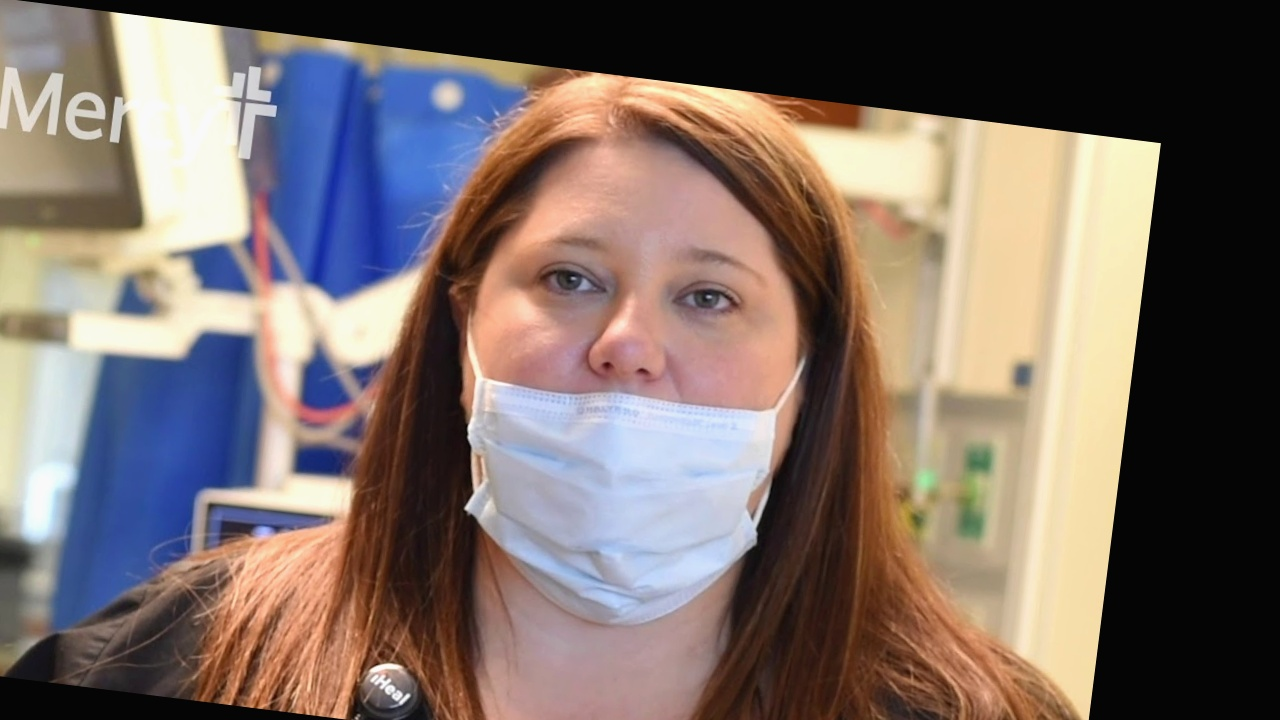mask_weared_incorrect: (439, 98, 802, 600)
